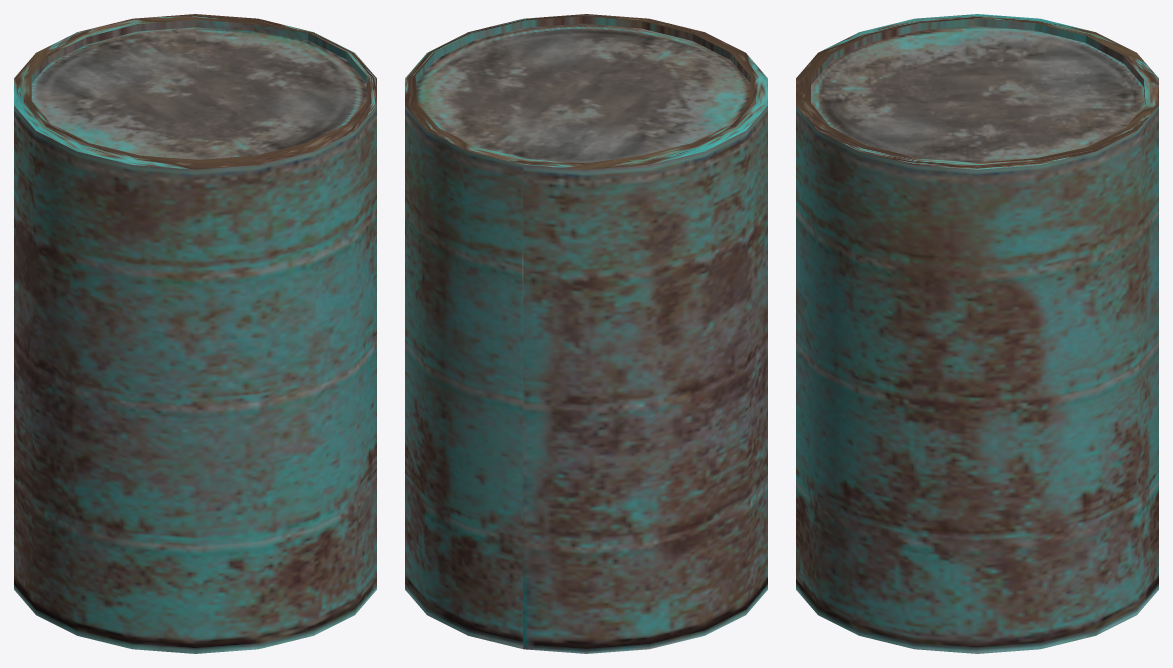
Rendered from barrel1.FBX.
The picture shows the model from 3 angles, left to right: view 1: azimuth 30°, elevation 25°; view 2: azimuth 150°, elevation 25°; view 3: azimuth 270°, elevation 25°; orthographic projection.
Visible parts, largest first — view 1: Cylinder001; view 2: Cylinder001; view 3: Cylinder001.
Part boxes in pixels (box(x1,y1,x2,y2)): Cylinder001: box(14, 14, 376, 653); Cylinder001: box(405, 14, 767, 653); Cylinder001: box(796, 14, 1158, 653).
Size of the model in its own units: 32.64 by 47.6 by 32.14.
